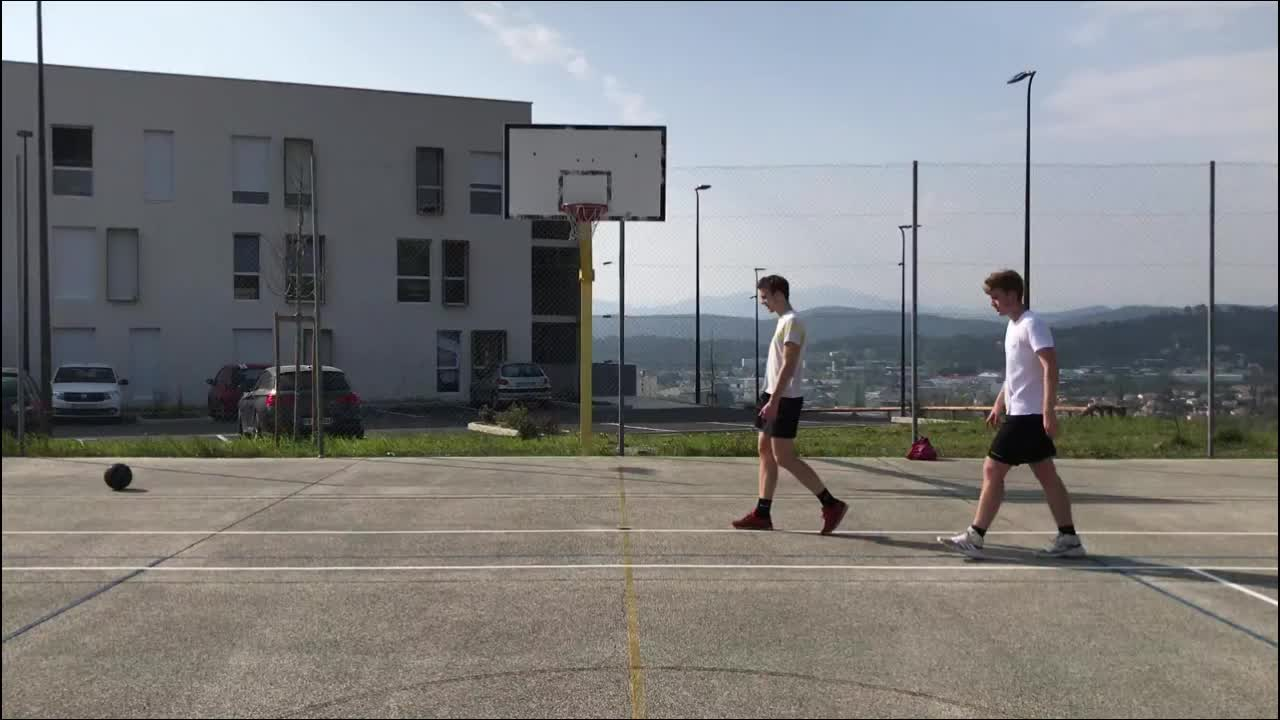jugador: (705, 251, 871, 554)
